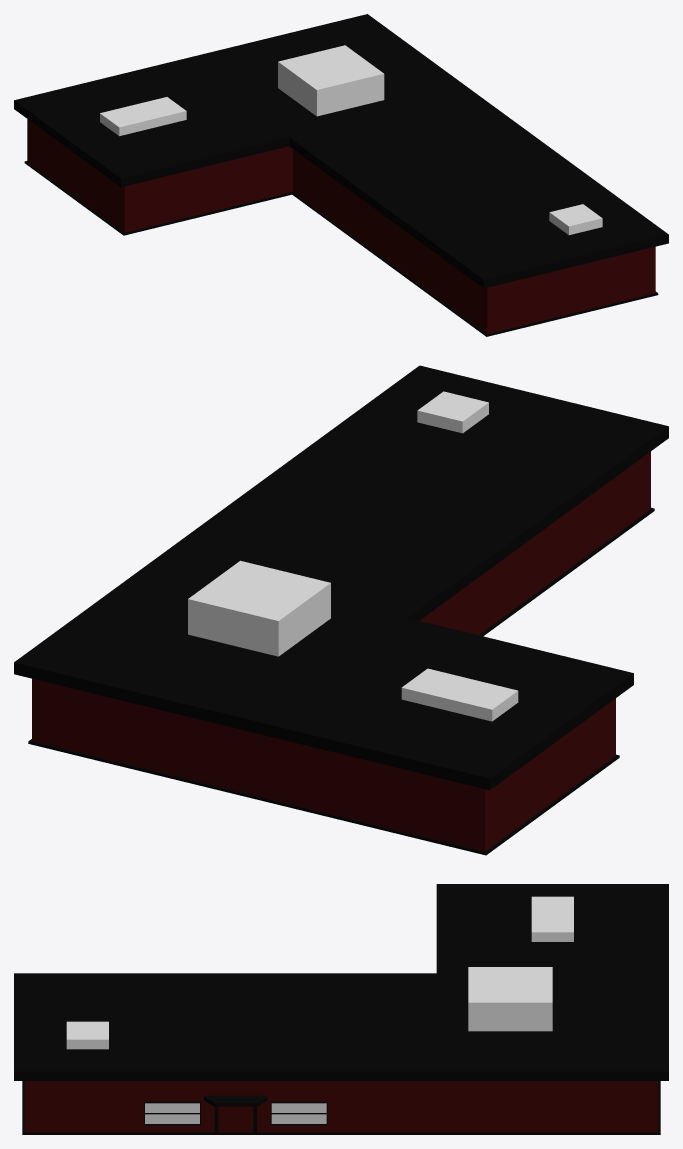
Rendered from SM_BuildingL_1.fbx.
3 views of the same model, one above another, from view 1: azimuth 30°, elevation 25°; view 2: azimuth 150°, elevation 25°; view 3: azimuth 270°, elevation 25° (orthographic). The views are drawn at different scales.
Visible parts, largest first — view 1: TopTrim, MainStructure, RoofBlock.001, BottomTrim, RoofBlock.002, RoofBlock; view 2: TopTrim, MainStructure, RoofBlock.001, RoofBlock.002, BottomTrim, RoofBlock; view 3: TopTrim, MainStructure, RoofBlock.001, BottomTrim, RoofBlock.002, RoofBlock, Glass.001, Glass, Doorway.
Boxes of the visible parts, x1,y1,x2,y2 form: TopTrim: (14, 14, 668, 288); MainStructure: (27, 119, 655, 333); RoofBlock.001: (278, 45, 384, 116); BottomTrim: (24, 161, 658, 336); RoofBlock.002: (100, 97, 186, 136); RoofBlock: (549, 204, 602, 235); TopTrim: (14, 365, 668, 790); MainStructure: (32, 451, 650, 851); RoofBlock.001: (188, 560, 330, 656); RoofBlock.002: (401, 668, 518, 721); BottomTrim: (28, 507, 654, 855); RoofBlock: (417, 391, 488, 433); TopTrim: (14, 884, 668, 1080); MainStructure: (24, 1081, 658, 1132); RoofBlock.001: (468, 967, 552, 1031); BottomTrim: (22, 1081, 660, 1134); RoofBlock.002: (531, 896, 573, 941); RoofBlock: (66, 1021, 108, 1049); Glass.001: (271, 1103, 326, 1123); Glass: (145, 1103, 199, 1123); Doorway: (204, 1095, 267, 1132).
Bounding box in the file's own units: 2130 × 500 × 3100.
